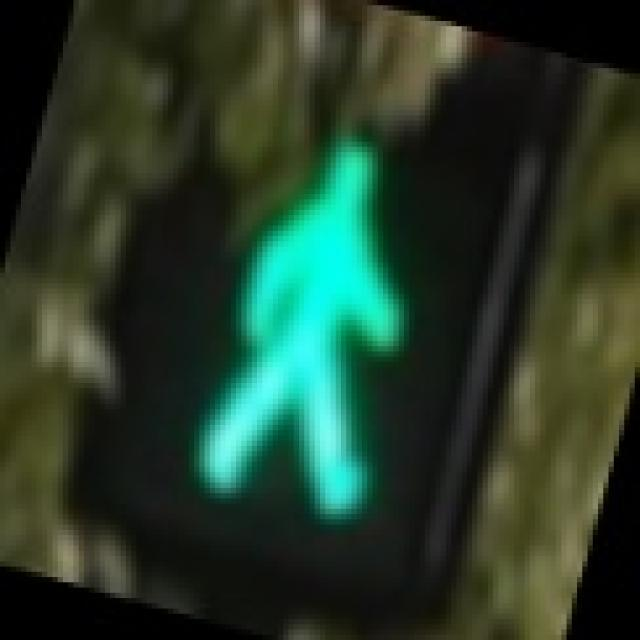geen-crossing: (110, 68, 509, 556)
